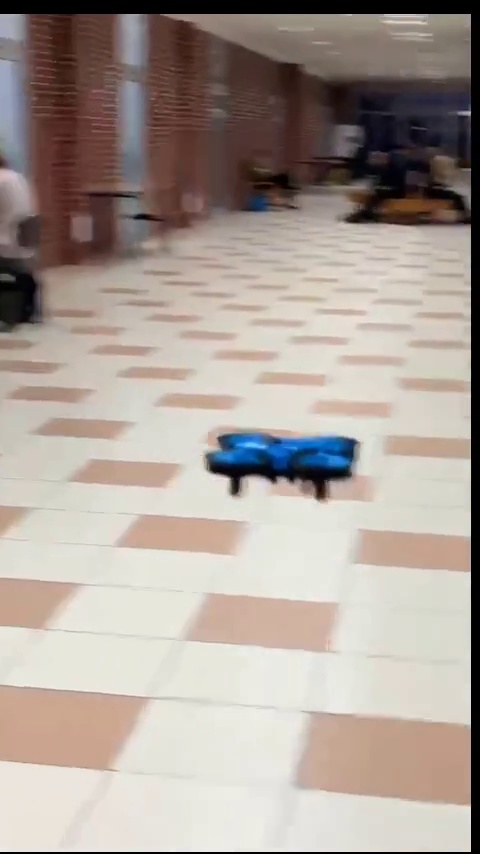drone: (210, 422, 359, 503)
